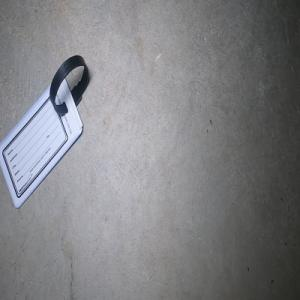LuggageTag: (0, 53, 90, 210)
